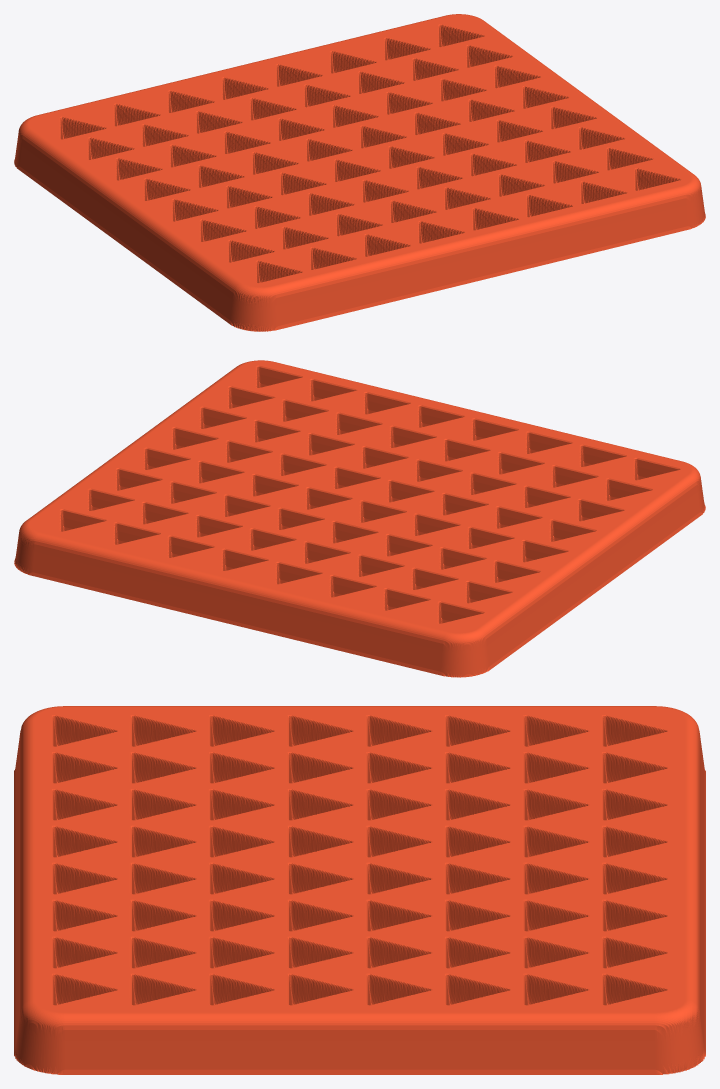
Rendered from mold.glb.
3 views of the same model, one above another, from view 1: azimuth 30°, elevation 25°; view 2: azimuth 150°, elevation 25°; view 3: azimuth 270°, elevation 25° (orthographic). The views are drawn at different scales.
Visible parts, largest first — view 1: geometry_0; view 2: geometry_0; view 3: geometry_0.
Boxes of the visible parts, box(x1,y1,x2,y2) form: geometry_0: box(14, 14, 705, 331); geometry_0: box(14, 360, 705, 677); geometry_0: box(14, 706, 705, 1074).
Size of the model in its own units: 0.1355 by 0.0105 by 0.1229.
